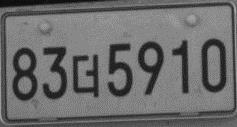0: (200, 37, 227, 92)
1: (168, 38, 196, 94)
3: (41, 45, 68, 99)
5: (106, 42, 133, 97)
8: (11, 46, 39, 101)
9: (136, 40, 165, 96)
더: (71, 52, 100, 99)
